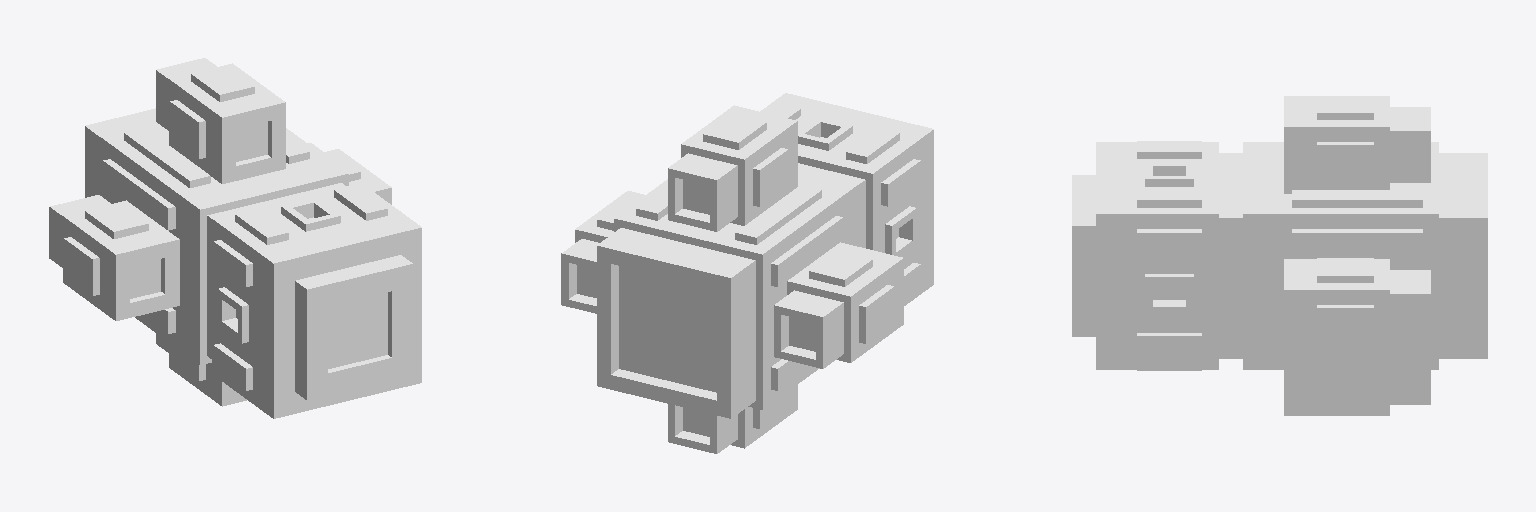
Rendered from EnemyMissile.obj.
3 views of the same model, side by side, from view 1: azimuth 30°, elevation 25°; view 2: azimuth 150°, elevation 25°; view 3: azimuth 270°, elevation 25° (orthographic).
Bounding box in the file's own units: 41 × 41 × 51.